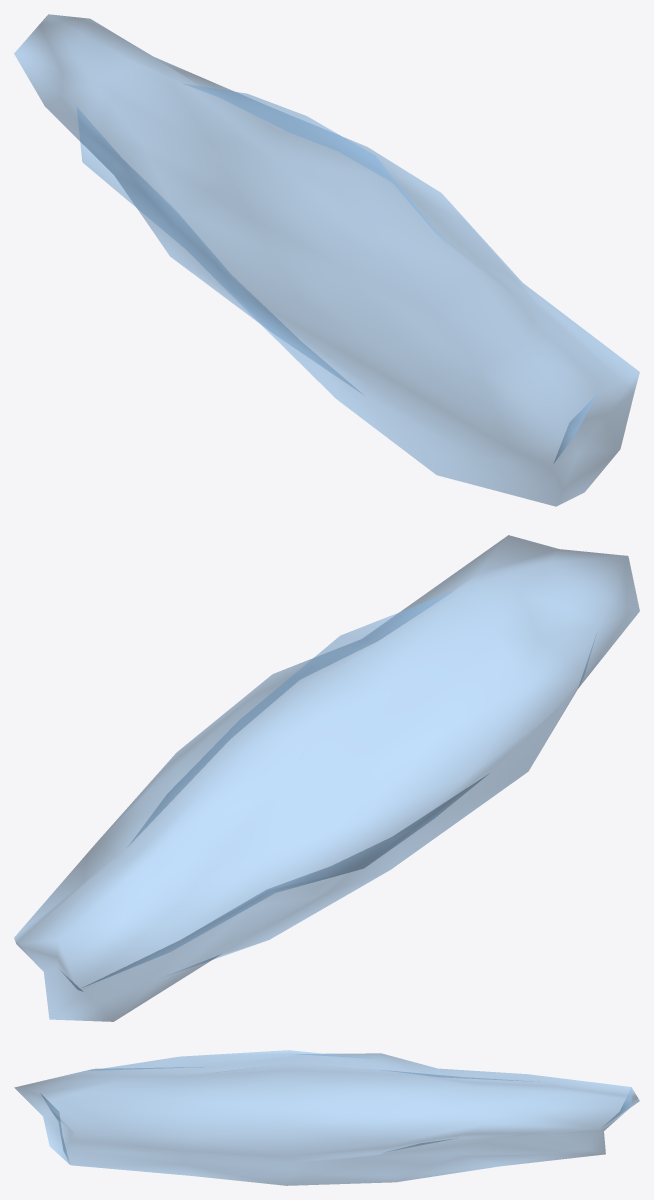
The model's file is tdreadnought_shield.gltf.
The picture shows the model from 3 angles, top to bottom: view 1: azimuth 30°, elevation 25°; view 2: azimuth 150°, elevation 25°; view 3: azimuth 270°, elevation 25°; orthographic projection. The views are drawn at different scales.
Visible parts, largest first — view 1: tdreadnought.shield; view 2: tdreadnought.shield; view 3: tdreadnought.shield.
Part boxes in pixels (box(x1,y1,x2,y2)): tdreadnought.shield: box(14, 14, 639, 506); tdreadnought.shield: box(14, 535, 639, 1021); tdreadnought.shield: box(14, 1050, 639, 1185).
Size of the model in its own units: 10.44 by 10.39 by 45.14.
